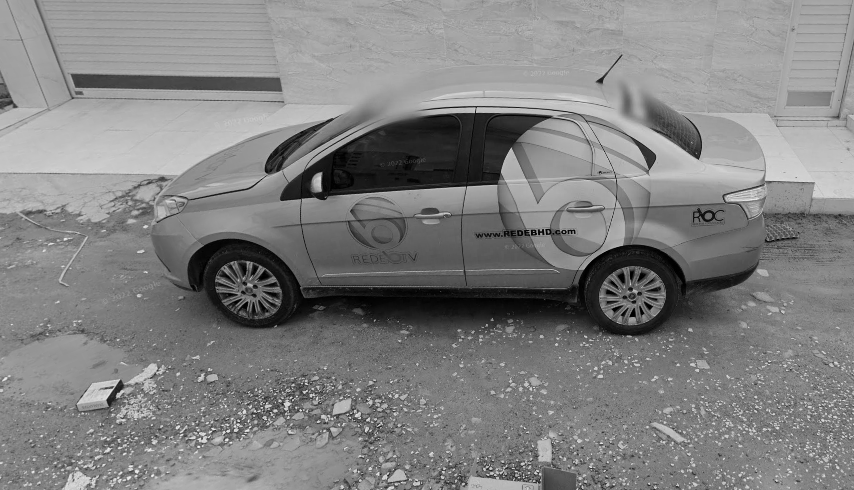car: (143, 49, 774, 360)
